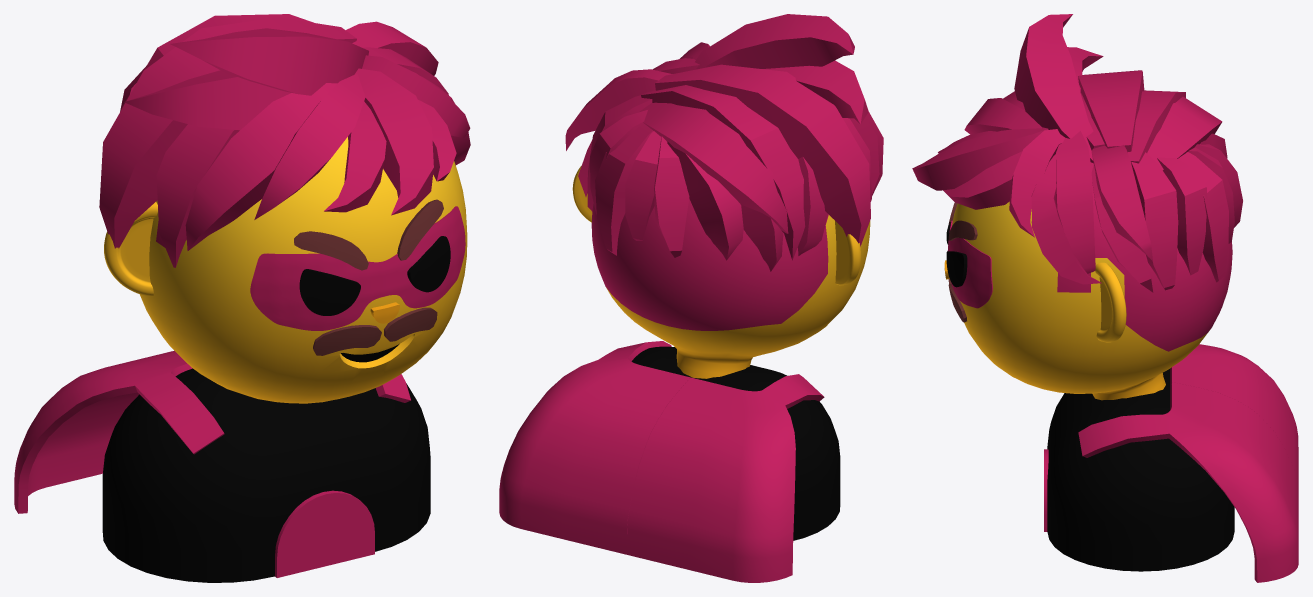
File: man_supervillain.glb
3 views of the same model, side by side, from view 1: azimuth 30°, elevation 25°; view 2: azimuth 150°, elevation 25°; view 3: azimuth 270°, elevation 25° (orthographic). The views are drawn at different scales.
Parts seen in each view (by area): view 1: Cube.2439, Sphere.160, Roundcube.203, Sphere.161, Roundcube.204, Circle.970, Circle.966, Cylinder.177, Circle.968, Circle.969; view 2: Cube.2439, Sphere.161, Roundcube.203, Sphere.160, Cylinder.177; view 3: Cube.2439, Roundcube.203, Sphere.160, Sphere.161, Roundcube.204, Cylinder.177, Circle.966, Circle.968.
Part boxes in pixels (x1,y1,x2,y2): Cube.2439: (99,14,470,267); Sphere.160: (102,368,430,582); Roundcube.203: (140,137,467,403); Sphere.161: (14,350,410,513); Roundcube.204: (250,206,465,330); Circle.970: (275,490,374,577); Circle.966: (299,236,450,315); Cylinder.177: (104,202,157,296); Circle.968: (294,199,443,270); Circle.969: (313,307,437,355); Cube.2439: (565,14,883,271); Sphere.161: (499,341,824,582); Roundcube.203: (591,199,870,378); Sphere.160: (631,346,840,540); Cylinder.177: (572,166,860,285); Cube.2439: (912,14,1242,292); Roundcube.203: (952,162,1232,400); Sphere.160: (1047,368,1234,571); Sphere.161: (1078,344,1298,582); Roundcube.204: (947,220,992,308); Cylinder.177: (1095,262,1126,342); Circle.966: (946,224,967,287); Circle.968: (948,202,977,240).
Bounding box in the file's own units: 1.72 × 2.58 × 1.99.
Materials: 1 (1 with a texture image).
